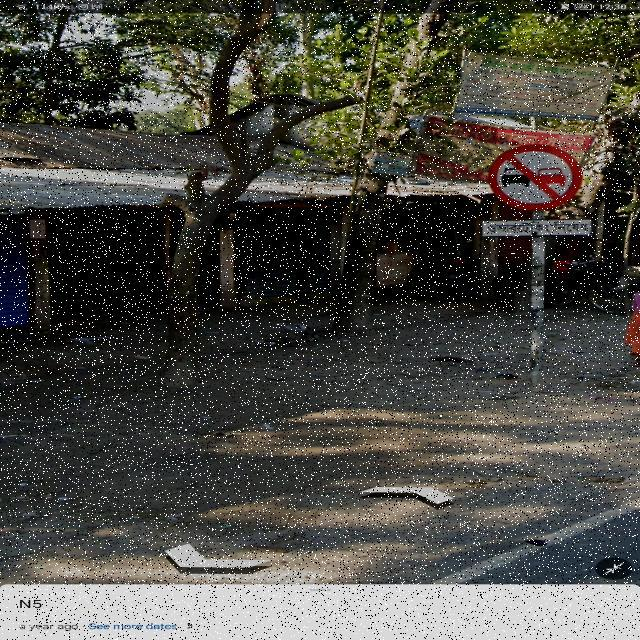Don-t-Overtracking: (474, 114, 601, 267)
